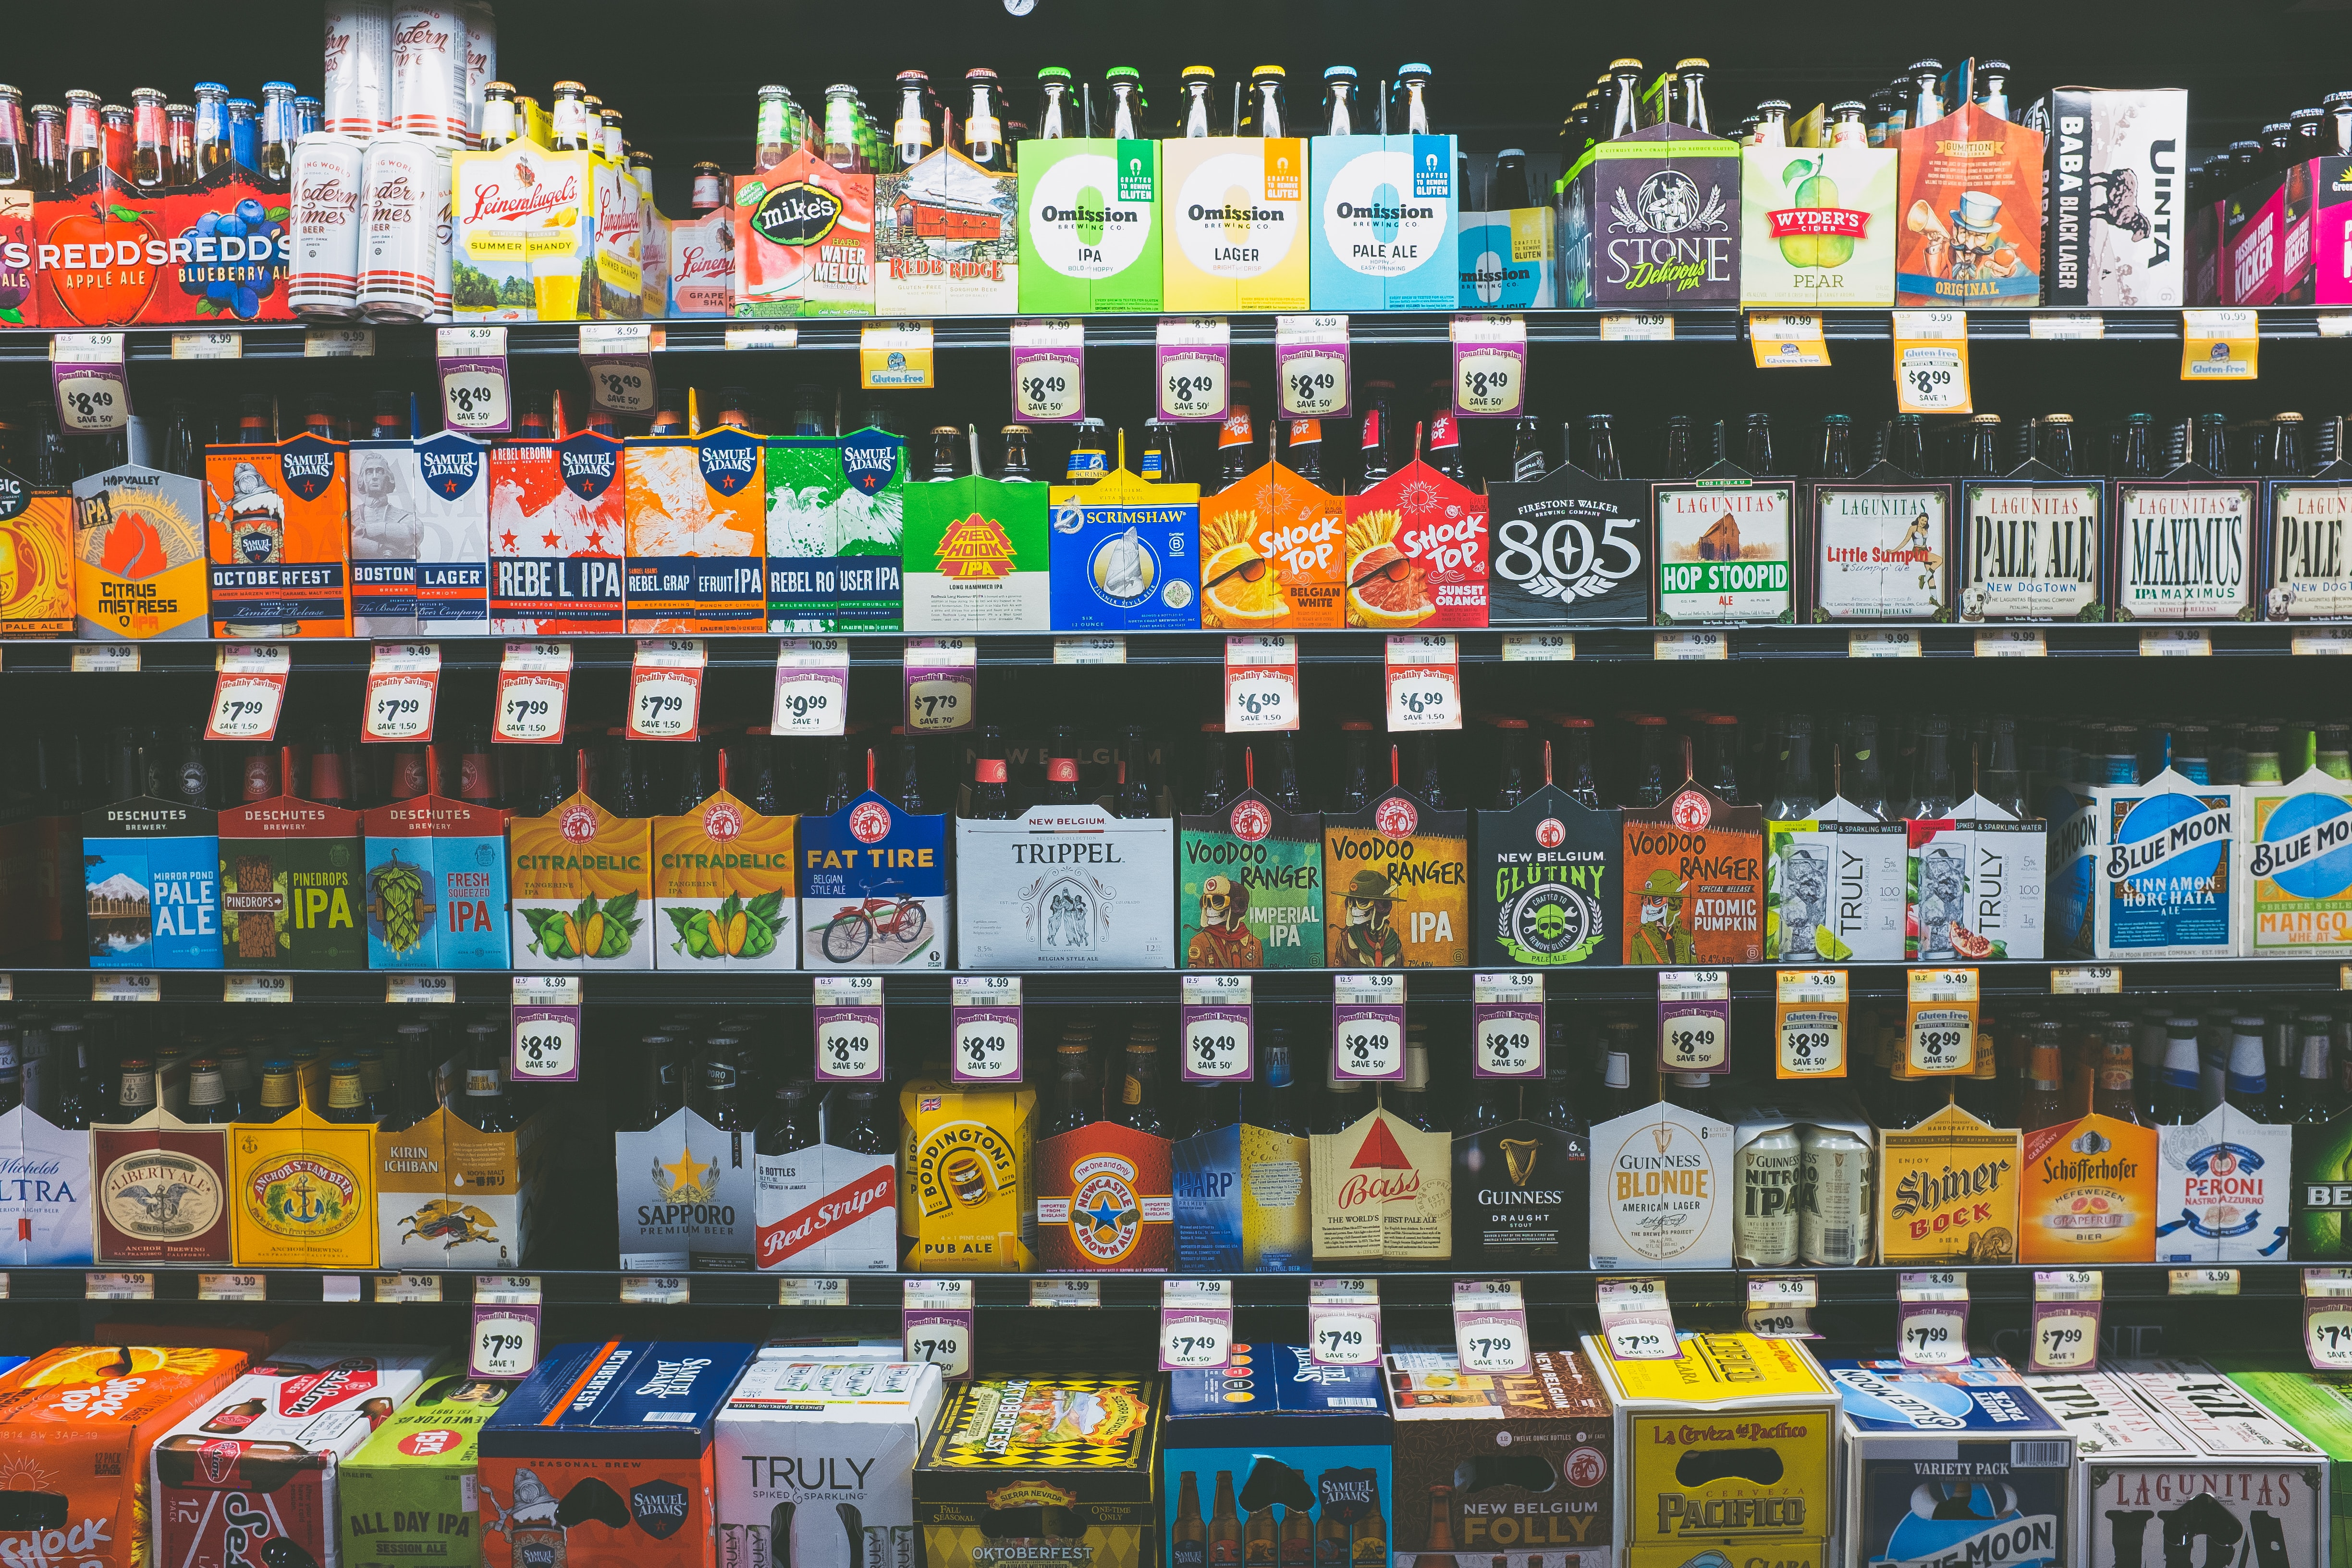Misplacement: (1456, 80, 1592, 304)
